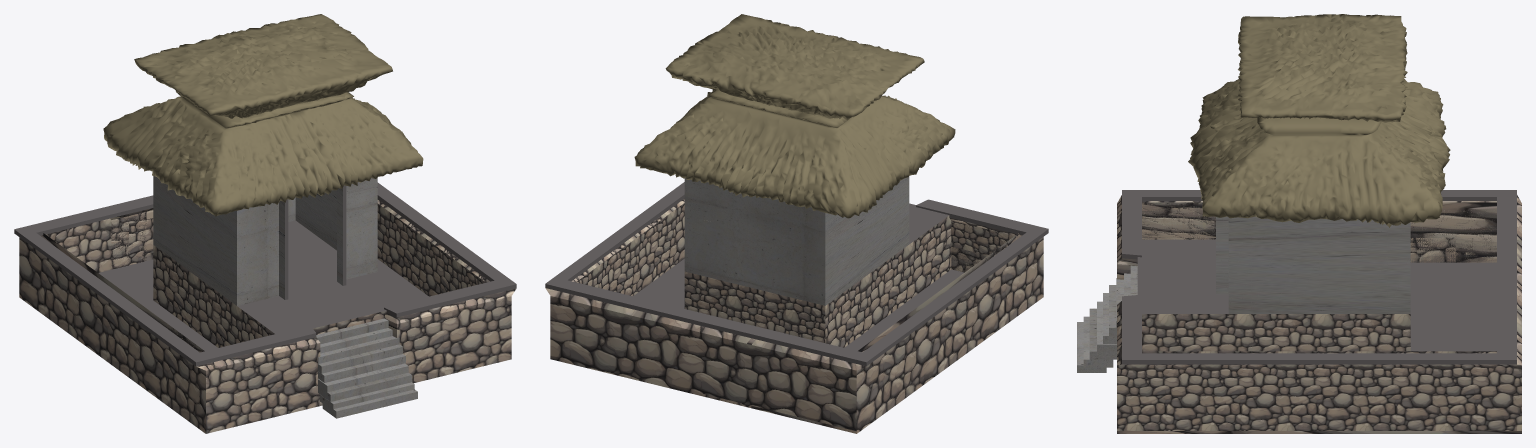
File: Aztec house 2.fbx
3 views of the same model, side by side, from view 1: azimuth 30°, elevation 25°; view 2: azimuth 150°, elevation 25°; view 3: azimuth 270°, elevation 25° (orthographic). The views are drawn at different scales.
Parts seen in each view (by area): view 1: pCube1, Sculpted_roof__1_:Mesh, pasted__pCube40; view 2: pCube1, Sculpted_roof__1_:Mesh; view 3: pCube1, Sculpted_roof__1_:Mesh, pasted__pCube40.
Boxes of the visible parts, x1=… form: pCube1: x1=14, y1=176, x2=516, y2=433; Sculpted_roof__1_:Mesh: x1=103, y1=14, x2=423, y2=216; pasted__pCube40: x1=316, y1=318, x2=417, y2=418; pCube1: x1=545, y1=176, x2=1048, y2=433; Sculpted_roof__1_:Mesh: x1=634, y1=14, x2=955, y2=218; pCube1: x1=1117, y1=190, x2=1521, y2=433; Sculpted_roof__1_:Mesh: x1=1188, y1=14, x2=1450, y2=227; pasted__pCube40: x1=1077, y1=265, x2=1137, y2=372.
Bounding box in the file's own units: 13.58 × 11.17 × 15.02.
